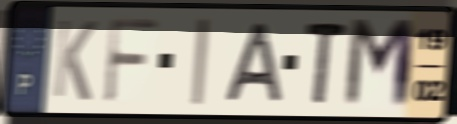A: (223, 20, 286, 106)
F: (100, 14, 162, 107)
I: (189, 15, 213, 109)
K: (49, 16, 99, 105)
M: (341, 15, 419, 113)
T: (303, 19, 350, 108)
